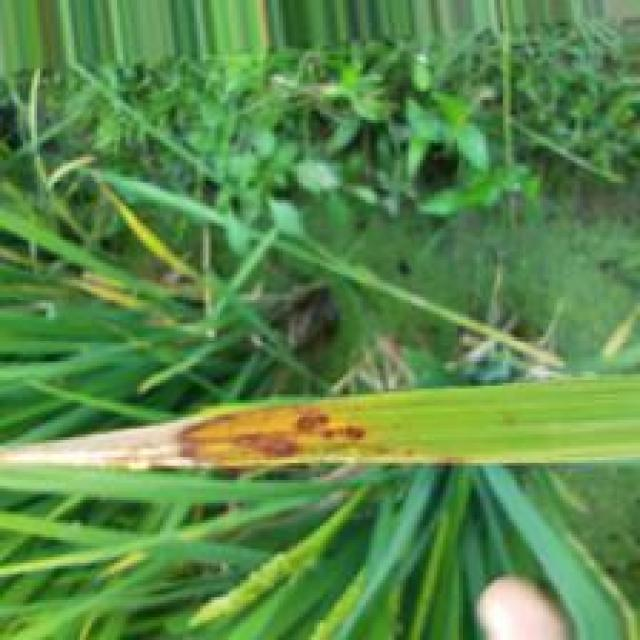Rice False Smut: (28, 411, 237, 468), (214, 426, 299, 461), (290, 406, 367, 443)
